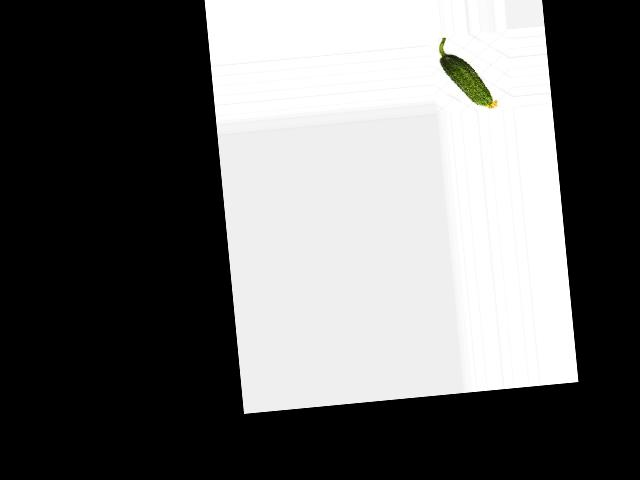cucumber: (437, 34, 498, 113)
